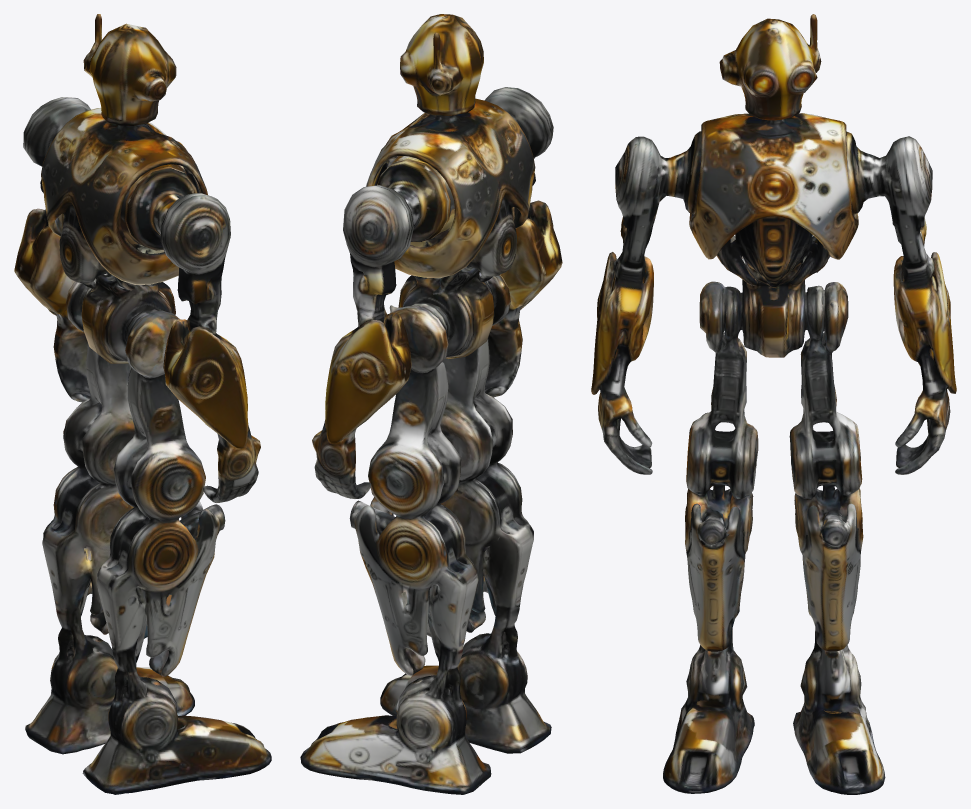
File: robot giallo.glb
The picture shows the model from 3 angles, left to right: view 1: azimuth 30°, elevation 25°; view 2: azimuth 150°, elevation 25°; view 3: azimuth 270°, elevation 25°; orthographic projection.
Parts seen in each view (by area): view 1: tripo_node_d8039dde-503e-47a5-8a1b-2029a62beb28; view 2: tripo_node_d8039dde-503e-47a5-8a1b-2029a62beb28; view 3: tripo_node_d8039dde-503e-47a5-8a1b-2029a62beb28.
Boxes of the visible parts, x1,y1,x2,y2 form: tripo_node_d8039dde-503e-47a5-8a1b-2029a62beb28: [14, 14, 271, 794]; tripo_node_d8039dde-503e-47a5-8a1b-2029a62beb28: [300, 14, 562, 794]; tripo_node_d8039dde-503e-47a5-8a1b-2029a62beb28: [591, 14, 956, 794].
Bounding box in the file's own units: 0.2253 × 0.9461 × 0.4308.
1 material, 1 textured.
